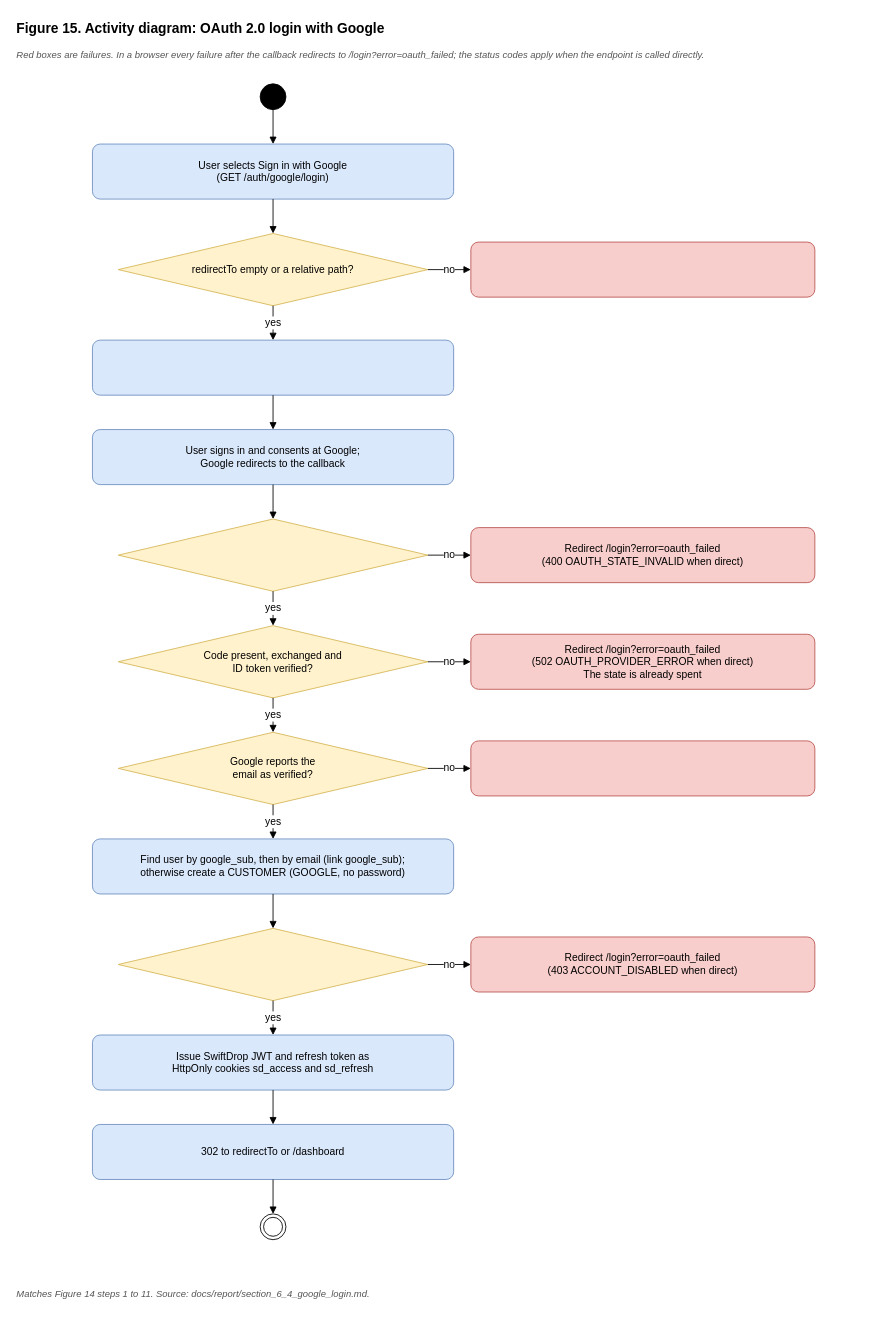
This 889x1340 diagram has some shape labels left out. The box of each missing label's shape, as (x1, y1, x2, y2) in pixels:
422 VALIDATION_ERROR No state is stored; no redirect: (470, 241, 815, 297)
Account active?: (117, 928, 428, 1001)
Redirect /login?error=oauth_failed (403 FORBIDDEN when direct): (470, 740, 815, 796)
State known, unexpired and unused?: (117, 518, 428, 591)
Store random state + PKCE verifier (about 10 minutes); 302 to Google: (92, 339, 454, 395)
